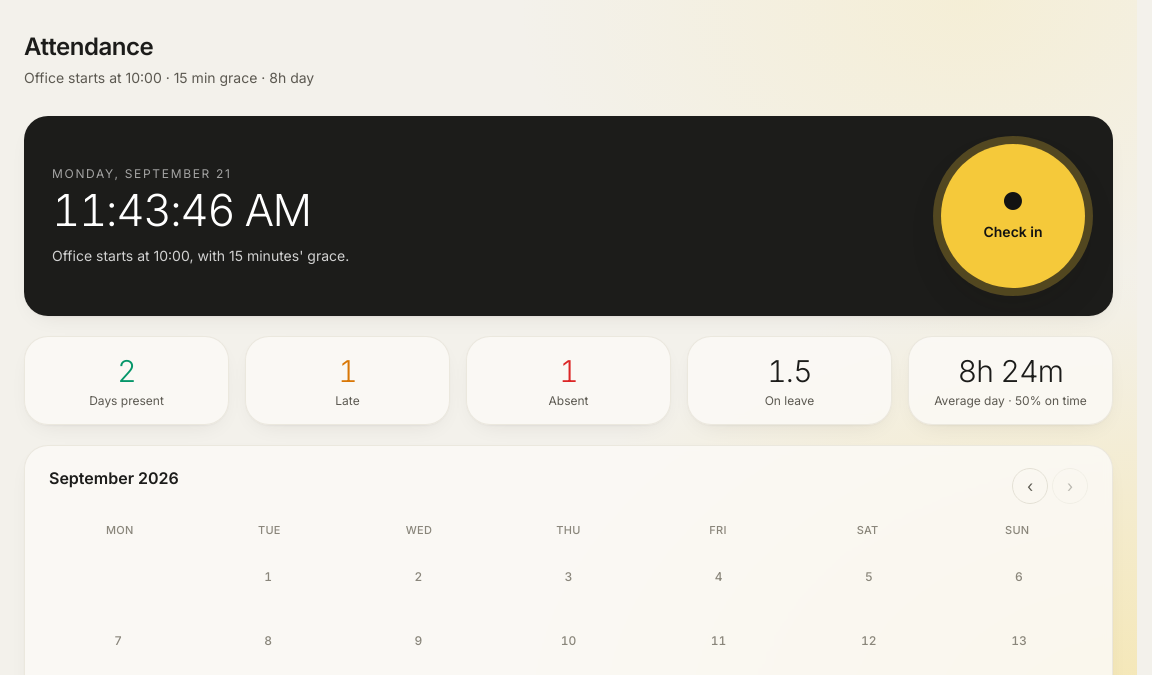
Test: my attendance › checks in with one tap and shows the new state
Step 1. Click the button "● Check in" → {"x": 1013, "y": 216}, box left=941, top=144, right=1085, bottom=288
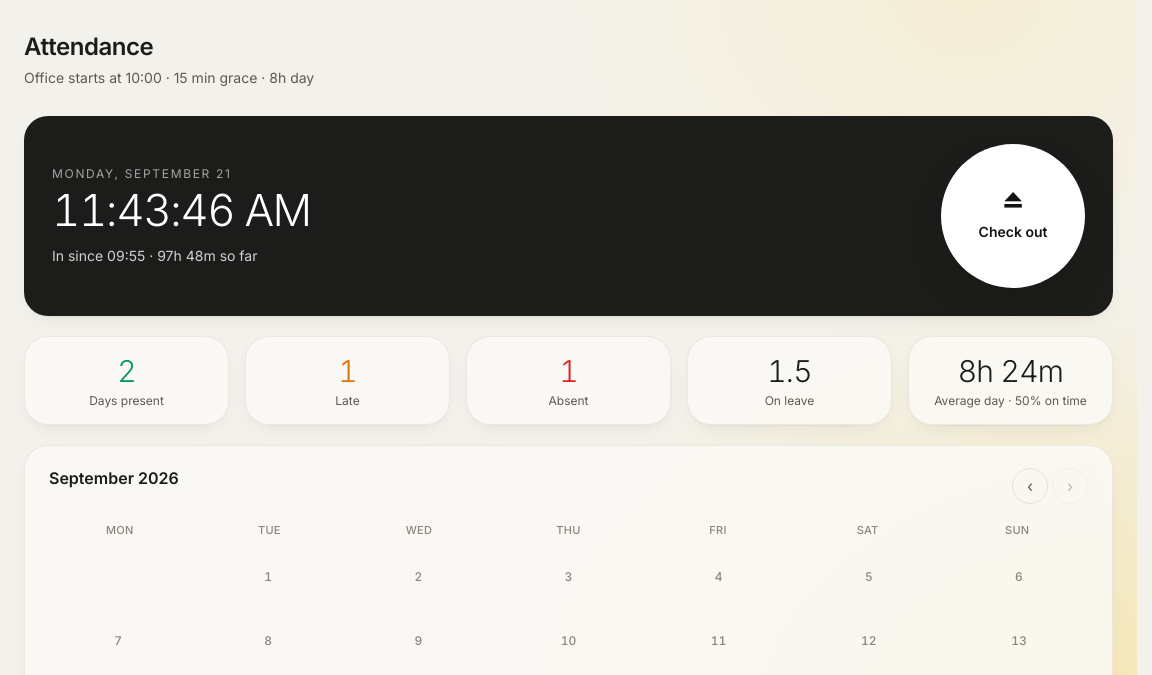
expect the button "⏏ Check out" is shown: met, box left=941, top=144, right=1085, bottom=288
expect the text "In since 09:55 · 97h 48m so far" is shown: met, box left=52, top=246, right=258, bottom=266
